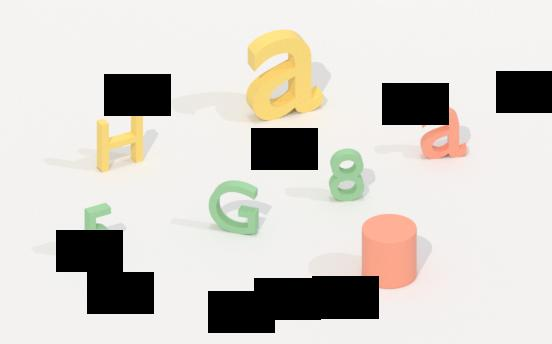5: (79, 203, 114, 264)
8: (326, 144, 366, 207)
G-hoa: (205, 173, 262, 236)
a: (244, 28, 326, 127), (418, 103, 469, 162)
g hoa: (93, 107, 148, 174)
tru: (360, 212, 421, 292)
